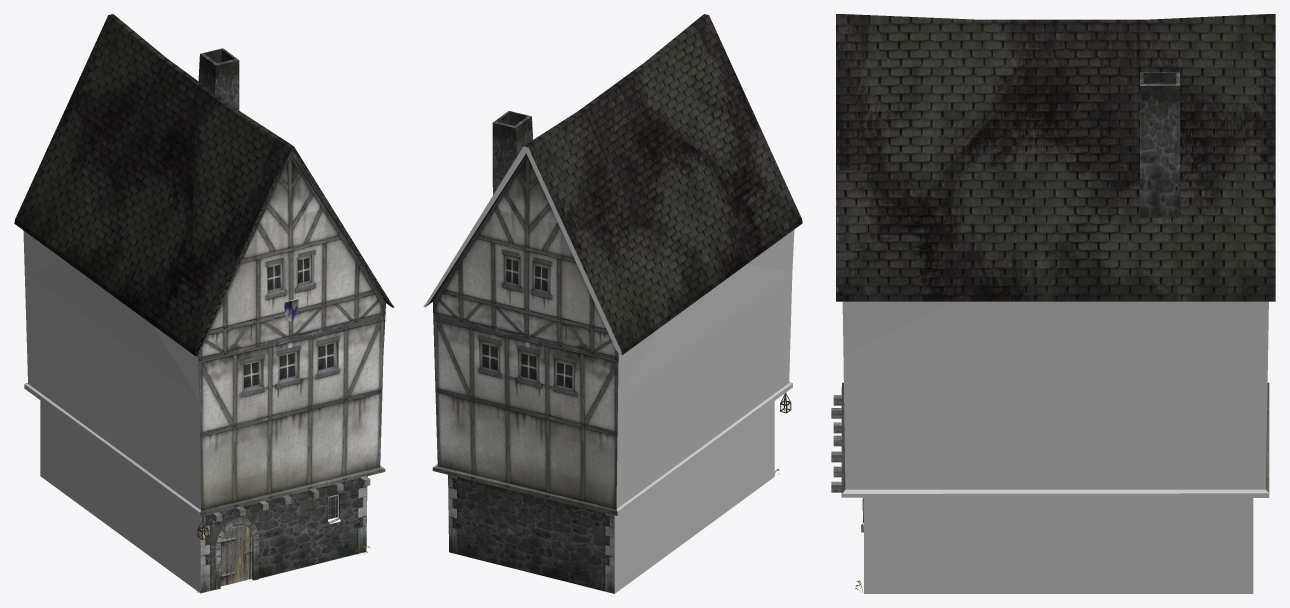
Rendered from building.fbx.
3 renders of one model, left to right at view 1: azimuth 30°, elevation 25°; view 2: azimuth 150°, elevation 25°; view 3: azimuth 270°, elevation 25°, orthographic. The views are drawn at different scales.
Visible parts, largest first — view 1: obj0_1; view 2: obj0_1; view 3: obj0_1.
Boxes of the visible parts, bbox=[...] form: obj0_1: bbox=[14, 14, 394, 593]; obj0_1: bbox=[423, 14, 802, 593]; obj0_1: bbox=[831, 14, 1275, 593].
Bounding box in the file's own units: 0.2146 × 0.4482 × 0.3414.
